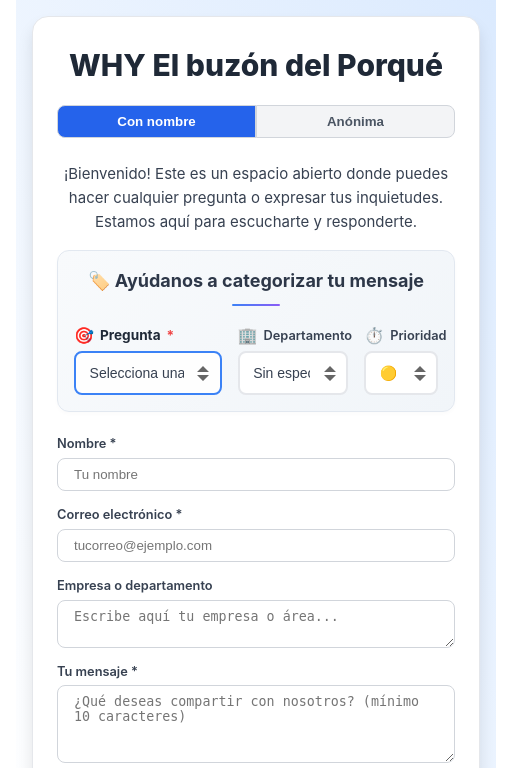
Scenario: InicioPlataformaWhy › Estado del formulario › debe habilitar botón cuando el formulario es válido en modo anónimo
# Cambiar a modo anónimo
Click the button "Anónima" at (356, 122), box top-left (256, 105), bottom-right (455, 138)
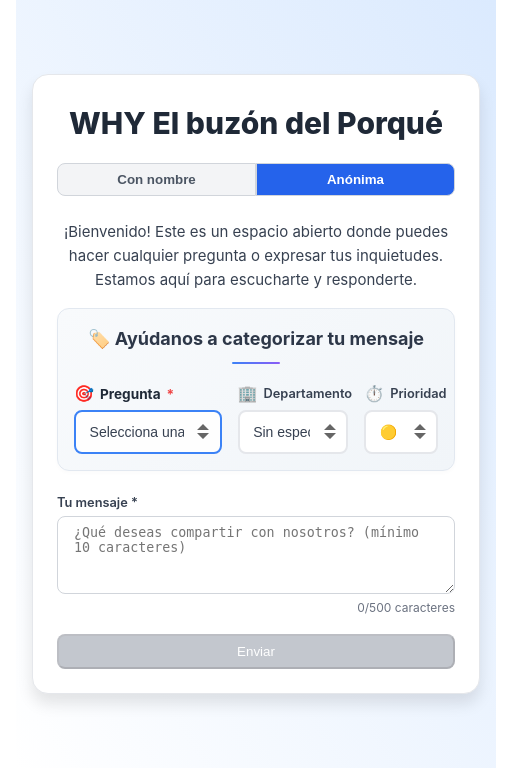
# Llenar campos obligatorios
Type "Este es un mensaje anónimo válido con suficiente contenido" into the text box with placeholder "¿Qué deseas compartir con nosotros? (mínimo 10 caracteres)" at (256, 556), box top-left (57, 516), bottom-right (455, 594)
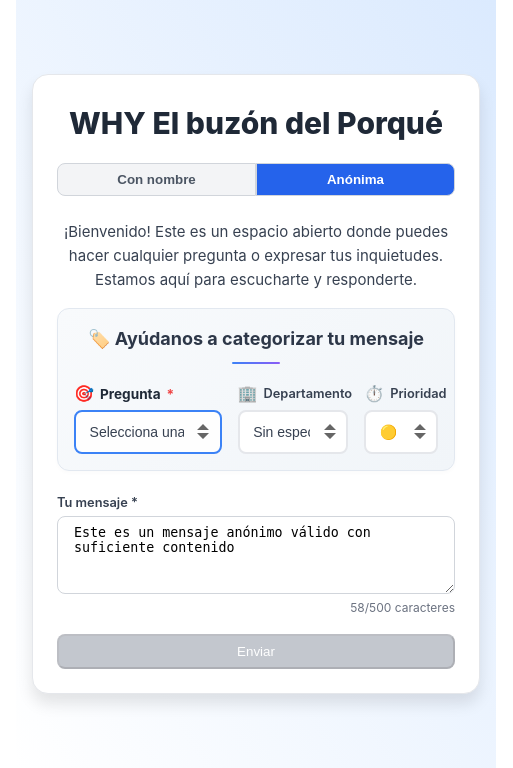
Select "💡 Sugerencia" in the 1st dropdown at (148, 432), box top-left (74, 410), bottom-right (222, 454)
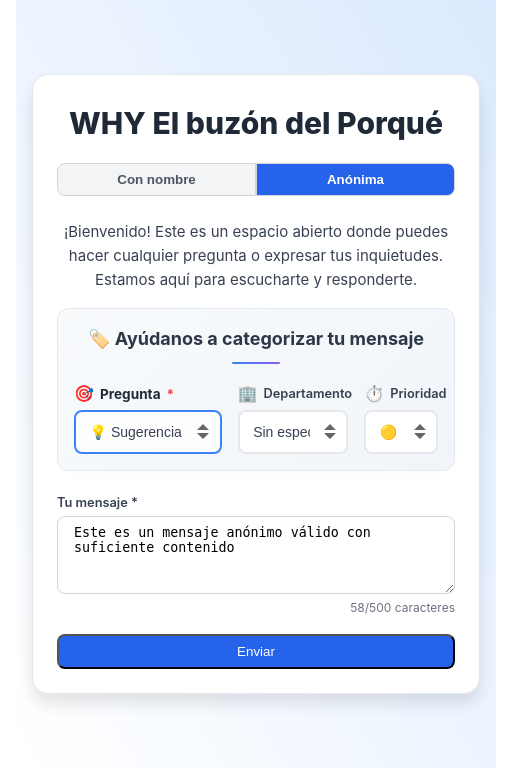
expect the button with class "boton-enviar" is enabled: met, box top-left (57, 634), bottom-right (455, 669)
